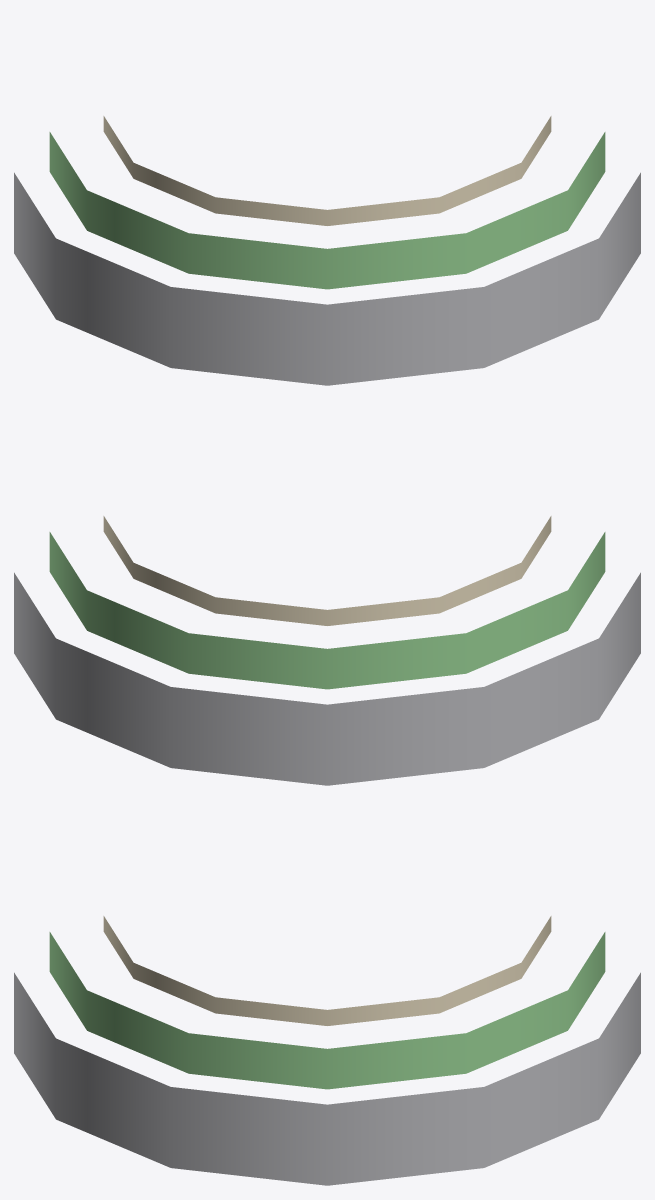
Rendered from ASTX_TERRAIN_ISLET.glb.
The picture shows the model from 3 angles, top to bottom: view 1: azimuth 30°, elevation 25°; view 2: azimuth 150°, elevation 25°; view 3: azimuth 270°, elevation 25°; orthographic projection.
Parts seen in each view (by area): view 1: ASTX_TERRAIN_ISLET_rock, ASTX_TERRAIN_ISLET_cap, ASTX_TERRAIN_ISLET_sand; view 2: ASTX_TERRAIN_ISLET_rock, ASTX_TERRAIN_ISLET_cap, ASTX_TERRAIN_ISLET_sand; view 3: ASTX_TERRAIN_ISLET_rock, ASTX_TERRAIN_ISLET_cap, ASTX_TERRAIN_ISLET_sand.
Boxes of the visible parts, bbox=[...] form: ASTX_TERRAIN_ISLET_rock: bbox=[14, 172, 640, 385]; ASTX_TERRAIN_ISLET_cap: bbox=[49, 132, 605, 289]; ASTX_TERRAIN_ISLET_sand: bbox=[103, 116, 551, 225]; ASTX_TERRAIN_ISLET_rock: bbox=[14, 572, 640, 785]; ASTX_TERRAIN_ISLET_cap: bbox=[49, 532, 605, 689]; ASTX_TERRAIN_ISLET_sand: bbox=[103, 516, 551, 625]; ASTX_TERRAIN_ISLET_rock: bbox=[14, 972, 640, 1185]; ASTX_TERRAIN_ISLET_cap: bbox=[49, 932, 605, 1089]; ASTX_TERRAIN_ISLET_sand: bbox=[103, 916, 551, 1025].
Bounding box in the file's own units: 14 × 3.4 × 14.
